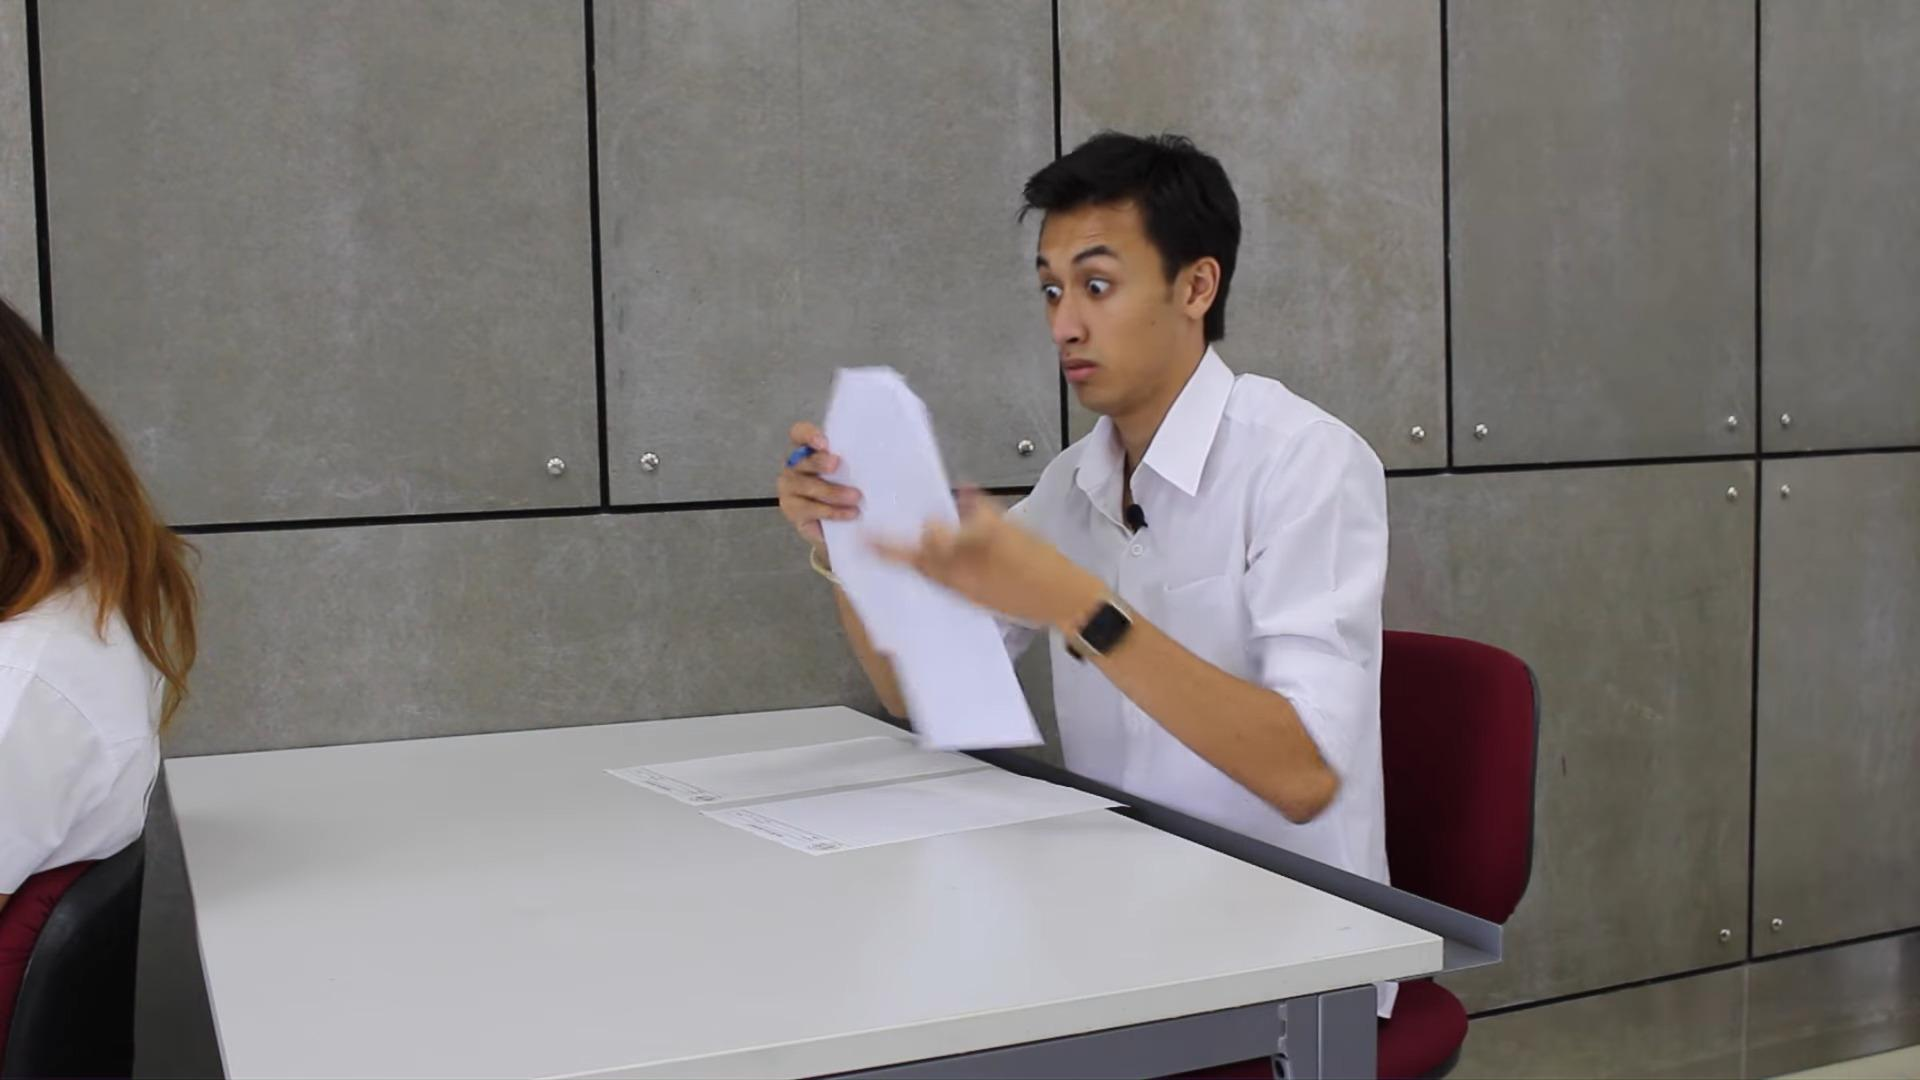good: (570, 111, 1440, 919)
